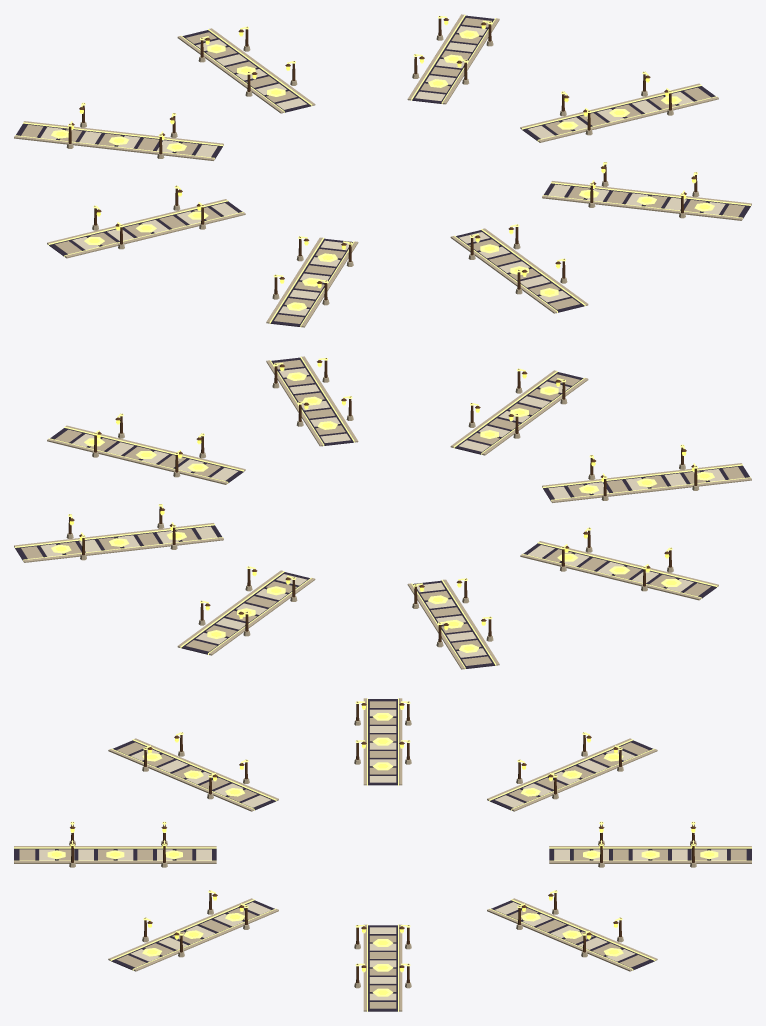
File: Hub_Alleen.fbx
The picture shows the model from 3 angles, top to bottom: view 1: azimuth 30°, elevation 25°; view 2: azimuth 150°, elevation 25°; view 3: azimuth 270°, elevation 25°; orthographic projection. The views are drawn at different scales.
Parts seen in each view (by area): view 1: Hub_Allee_Randstein, Hub_Allee_Gold, Hub_Allee_Sandstein, Hub_Allee_Schiefer, Hub_Laterne_Holz, Hub_Allee_HonigNeon; view 2: Hub_Allee_Randstein, Hub_Allee_Gold, Hub_Allee_Sandstein, Hub_Allee_Schiefer, Hub_Laterne_Holz, Hub_Allee_HonigNeon; view 3: Hub_Allee_Randstein, Hub_Allee_Gold, Hub_Allee_Sandstein, Hub_Allee_Schiefer, Hub_Laterne_Holz, Hub_Allee_HonigNeon.
Boxes of the visible parts, <box> form: Hub_Allee_Randstein: <box>14,14,751,327</box>; Hub_Allee_Gold: <box>15,14,750,327</box>; Hub_Allee_Sandstein: <box>40,26,725,315</box>; Hub_Allee_Schiefer: <box>16,15,750,326</box>; Hub_Laterne_Holz: <box>68,16,697,300</box>; Hub_Allee_HonigNeon: <box>55,21,709,308</box>; Hub_Allee_Randstein: <box>14,356,751,669</box>; Hub_Allee_Gold: <box>15,356,750,669</box>; Hub_Allee_Sandstein: <box>40,368,725,657</box>; Hub_Allee_Schiefer: <box>15,357,749,668</box>; Hub_Laterne_Holz: <box>68,358,697,642</box>; Hub_Allee_HonigNeon: <box>56,363,710,650</box>; Hub_Allee_Randstein: <box>14,698,751,1011</box>; Hub_Allee_Gold: <box>14,698,751,1011</box>; Hub_Allee_Sandstein: <box>39,709,726,1000</box>; Hub_Allee_Schiefer: <box>14,699,751,1011</box>; Hub_Laterne_Holz: <box>70,701,695,983</box>; Hub_Allee_HonigNeon: <box>51,705,714,994</box>.
Bounding box in the file's own units: 233 × 8 × 233.
